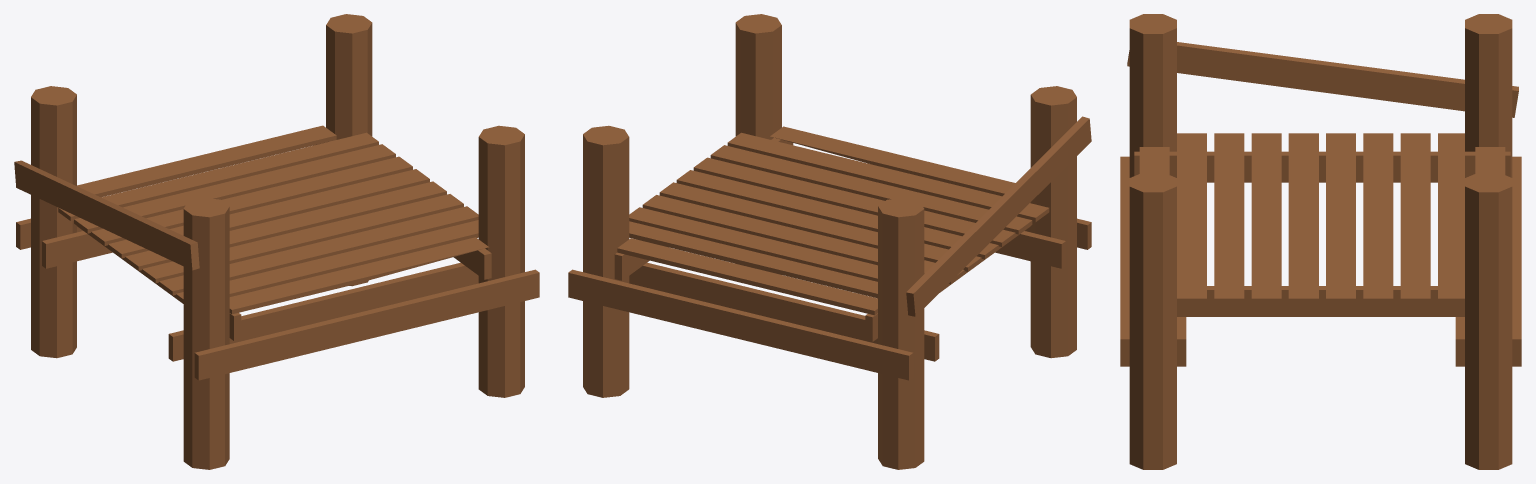
The model's file is Barrier Dock 3.fbx.
3 views of the same model, side by side, from view 1: azimuth 30°, elevation 25°; view 2: azimuth 150°, elevation 25°; view 3: azimuth 270°, elevation 25° (orthographic). The views are drawn at different scales.
Visible parts, largest first — view 1: Dock Part 3; view 2: Dock Part 3; view 3: Dock Part 3.
Part boxes in pixels (<box>): Dock Part 3: <box>14,14,539,469</box>; Dock Part 3: <box>568,14,1091,469</box>; Dock Part 3: <box>1120,14,1521,469</box>.
Size of the model in its own units: 410 by 288 by 377.
